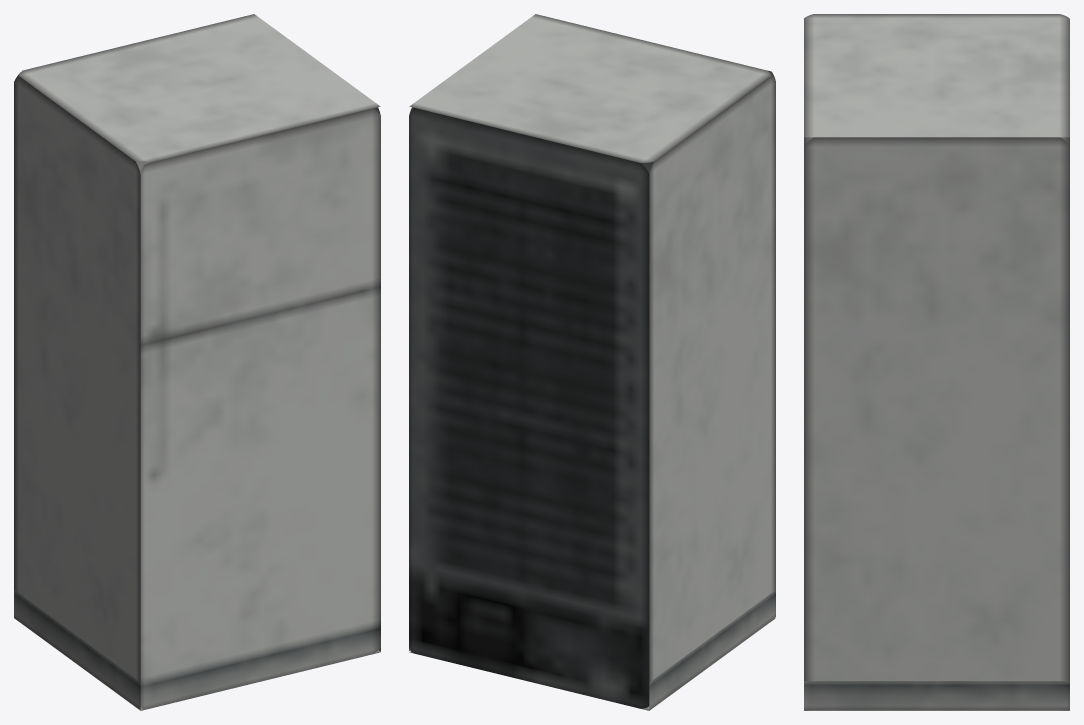
The model's file is SM_EC_FridgeFreezer_0.fbx.
The picture shows the model from 3 angles, left to right: view 1: azimuth 30°, elevation 25°; view 2: azimuth 150°, elevation 25°; view 3: azimuth 270°, elevation 25°; orthographic projection. The views are drawn at different scales.
Parts seen in each view (by area): view 1: SM_EC_FridgeFreezer_0; view 2: SM_EC_FridgeFreezer_0; view 3: SM_EC_FridgeFreezer_0.
Part boxes in pixels (box(x1,y1,x2,y2)): SM_EC_FridgeFreezer_0: box(14, 14, 380, 710); SM_EC_FridgeFreezer_0: box(409, 14, 775, 710); SM_EC_FridgeFreezer_0: box(804, 14, 1069, 710).
Size of the model in its own units: 0.8274 by 0.7546 by 1.8.
